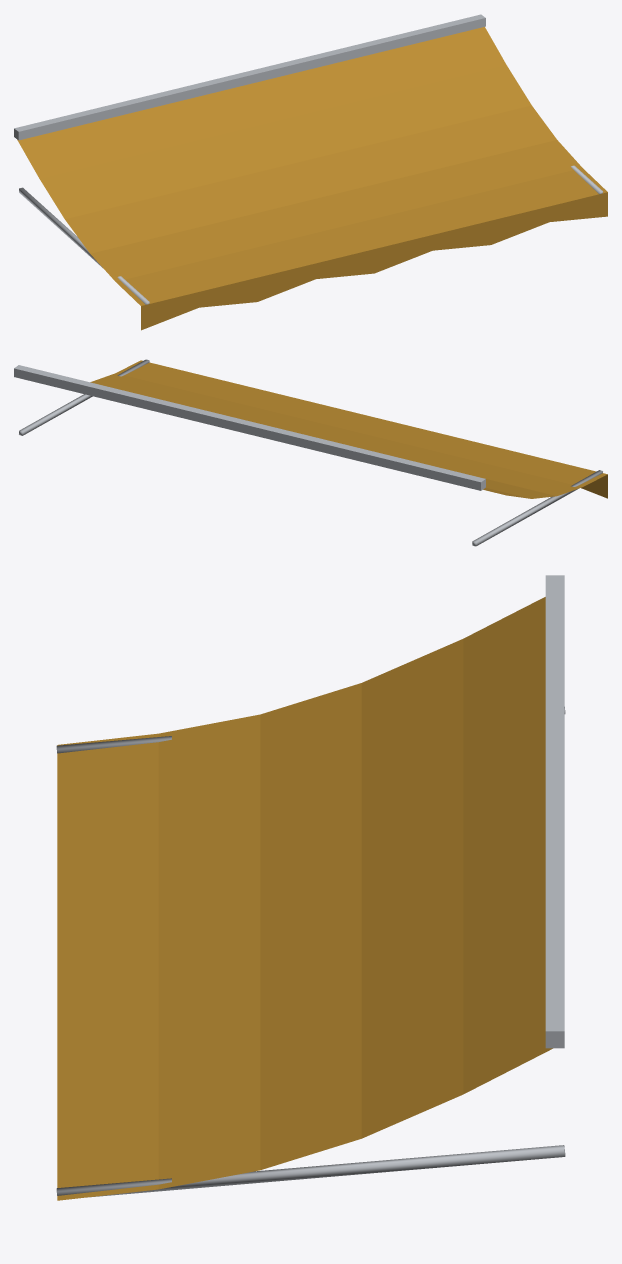
File: city_awning_ochre.glb
The picture shows the model from 3 angles, top to bottom: view 1: azimuth 30°, elevation 25°; view 2: azimuth 150°, elevation 25°; view 3: azimuth 270°, elevation 25°; orthographic projection. The views are drawn at different scales.
Parts seen in each view (by area): view 1: CityAwningOchre_Canvas, CityAwningOchre_Rail, CityAwningOchre_Arm0.35; view 2: CityAwningOchre_Canvas, CityAwningOchre_Rail, CityAwningOchre_Arm0.35, CityAwningOchre_Arm3.65; view 3: CityAwningOchre_Canvas, CityAwningOchre_Rail, CityAwningOchre_Arm3.65.
Boxes of the visible parts, box(x1,y1,x2,y2) form: CityAwningOchre_Canvas: box(17, 27, 607, 330); CityAwningOchre_Rail: box(14, 14, 485, 140); CityAwningOchre_Arm0.35: box(19, 187, 149, 304); CityAwningOchre_Canvas: box(90, 360, 607, 498); CityAwningOchre_Rail: box(14, 365, 485, 490); CityAwningOchre_Arm0.35: box(472, 470, 602, 546); CityAwningOchre_Arm3.65: box(19, 359, 149, 435); CityAwningOchre_Canvas: box(57, 597, 552, 1200); CityAwningOchre_Rail: box(545, 575, 564, 1048); CityAwningOchre_Arm3.65: box(56, 1145, 565, 1197).
Bounding box in the file's own units: 3.4 × 0.76 × 1.6.
